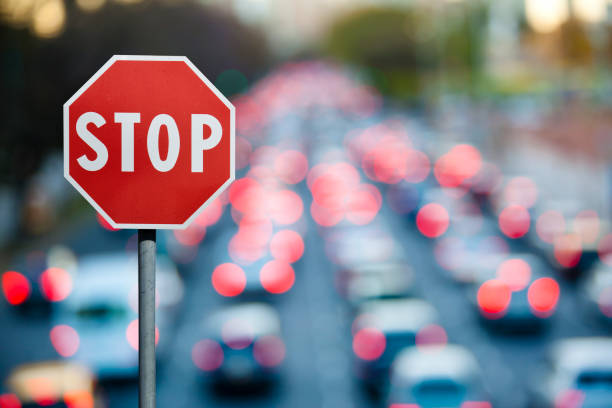Stop Signal: (45, 45, 258, 244)
